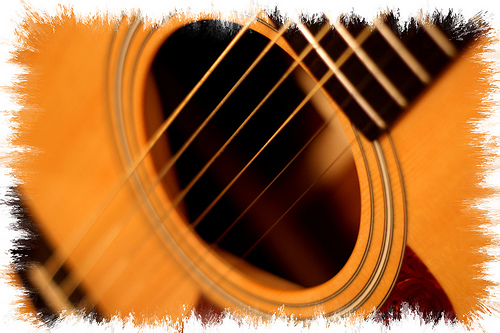guitar: (29, 24, 472, 309)
